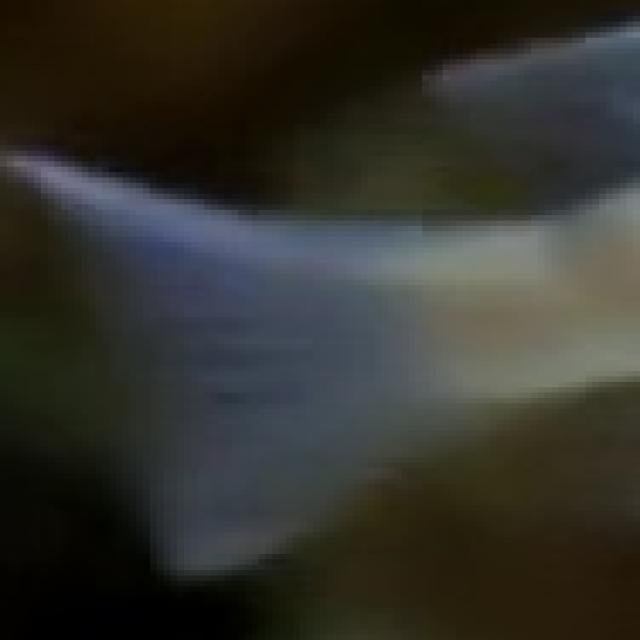fish: (0, 5, 633, 640)
